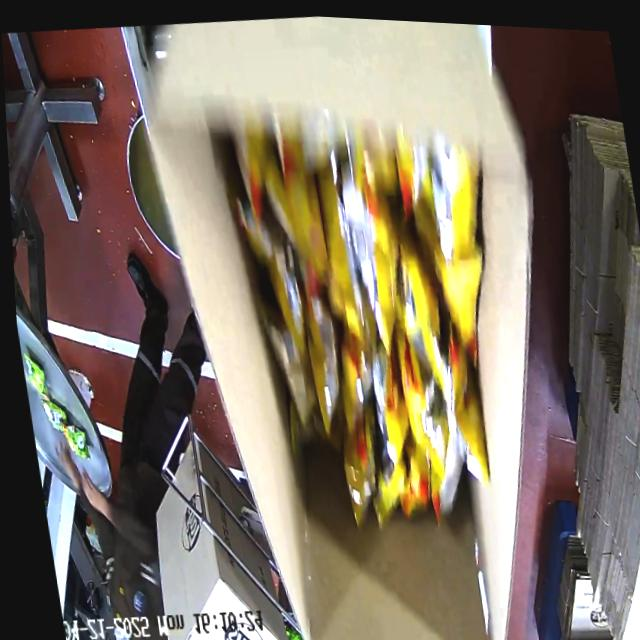SALTED: (232, 120, 523, 530)
